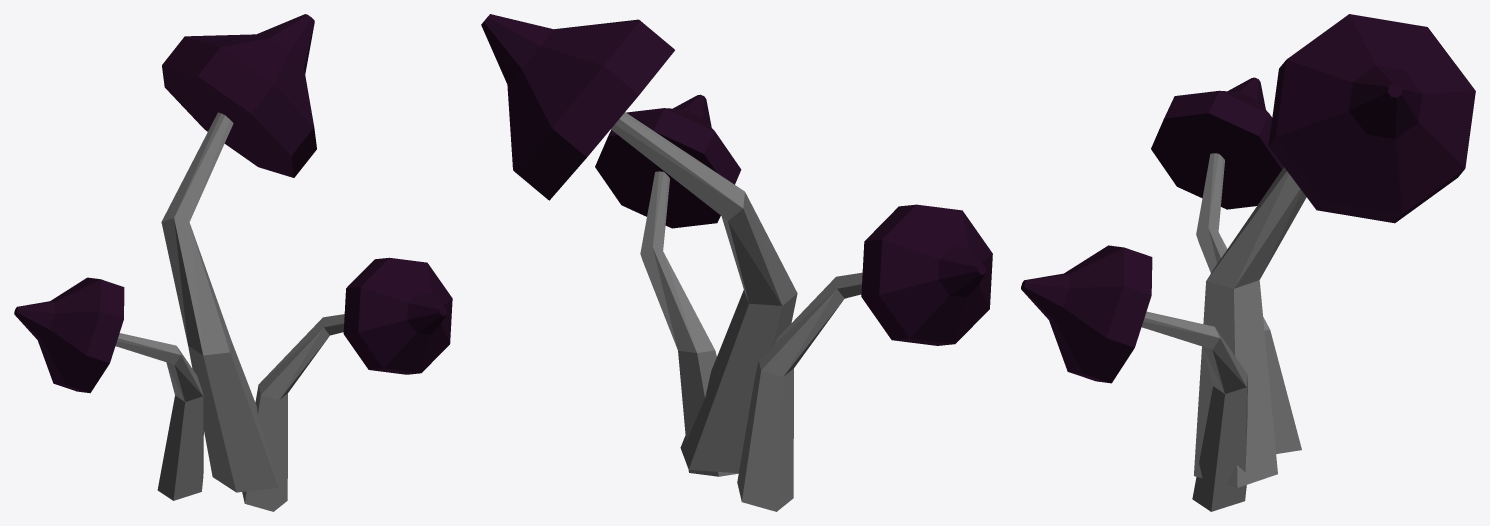
The model's file is Mushroom_01.obj.
The picture shows the model from 3 angles, left to right: view 1: azimuth 30°, elevation 25°; view 2: azimuth 150°, elevation 25°; view 3: azimuth 270°, elevation 25°; orthographic projection. The views are drawn at different scales.
Visible parts, largest first — view 1: Mushroom_01_Cylinder.032; view 2: Mushroom_01_Cylinder.032; view 3: Mushroom_01_Cylinder.032.
Boxes of the visible parts, x1=… form: Mushroom_01_Cylinder.032: x1=14, y1=14, x2=452, y2=511; Mushroom_01_Cylinder.032: x1=481, y1=14, x2=992, y2=511; Mushroom_01_Cylinder.032: x1=1021, y1=14, x2=1475, y2=511.
Size of the model in its own units: 1.48 by 1.56 by 1.3.
